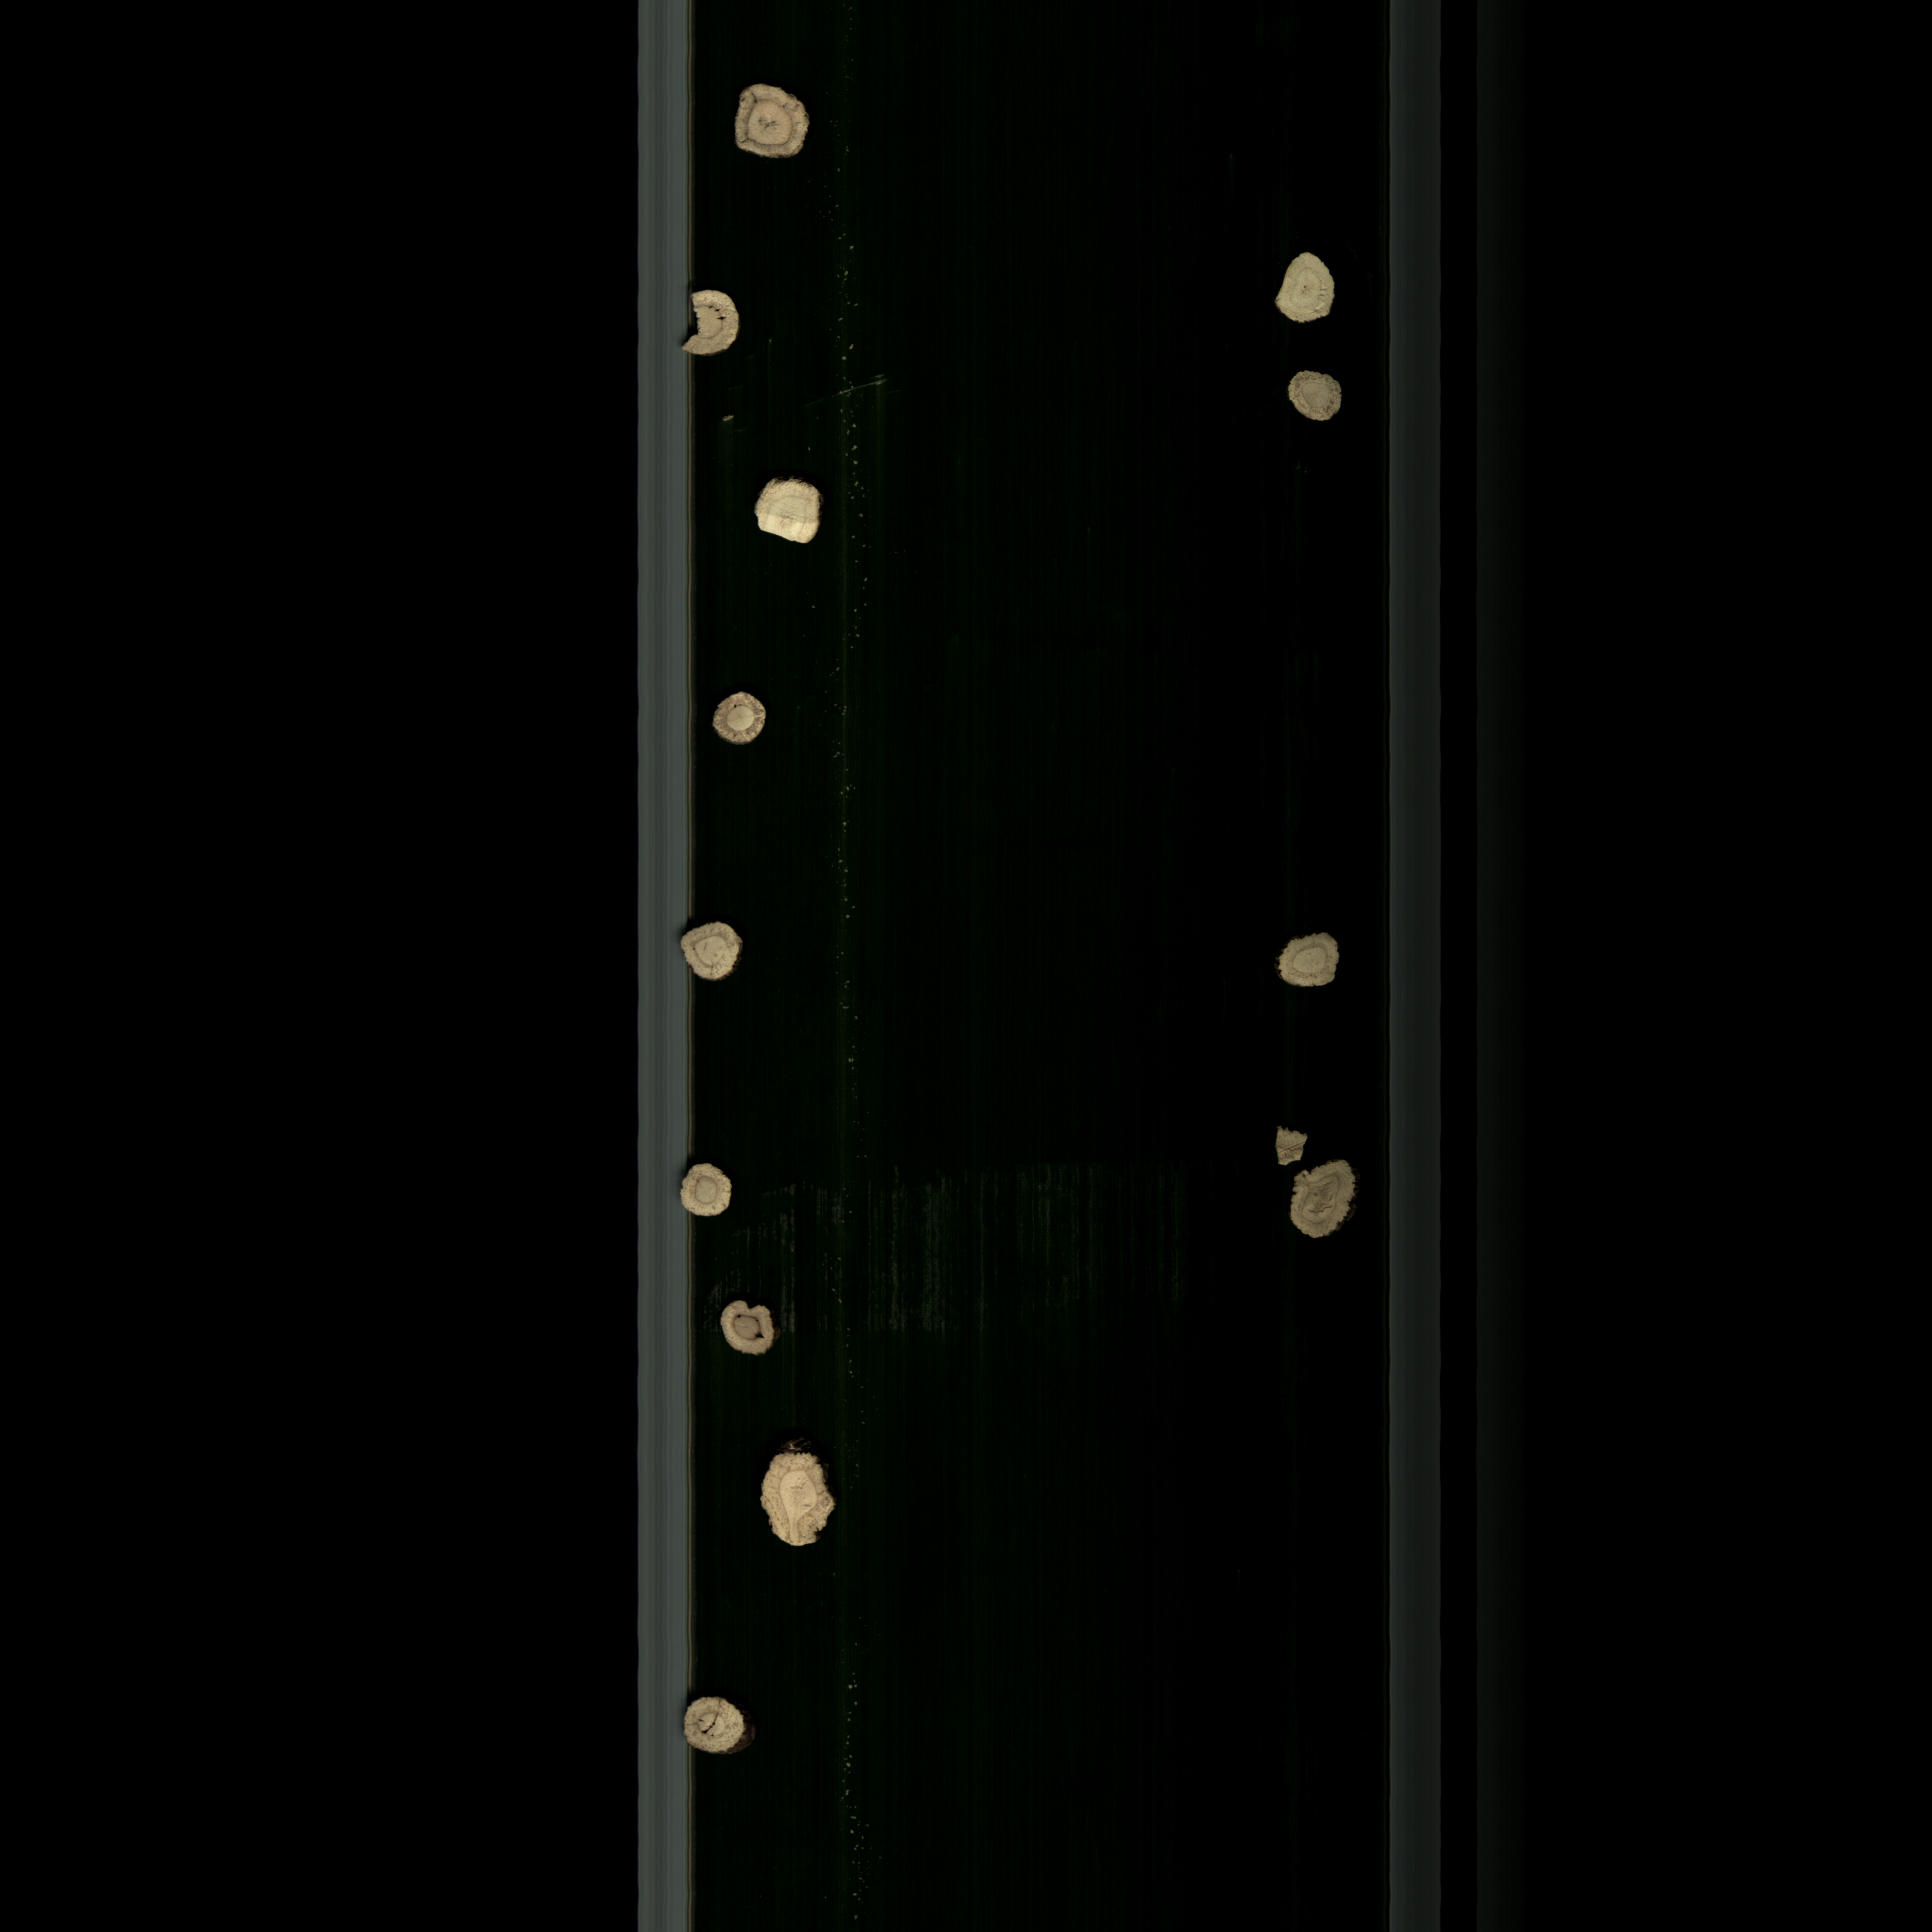debris: (734, 471, 828, 564), (671, 280, 748, 366)
distortion: (755, 1435, 840, 1568)
dreg: (1261, 1116, 1316, 1173)
hole: (678, 1693, 768, 1771)
moldy: (722, 74, 823, 166), (1281, 1157, 1366, 1251), (708, 1292, 787, 1366), (711, 681, 770, 754), (1283, 363, 1345, 428)
